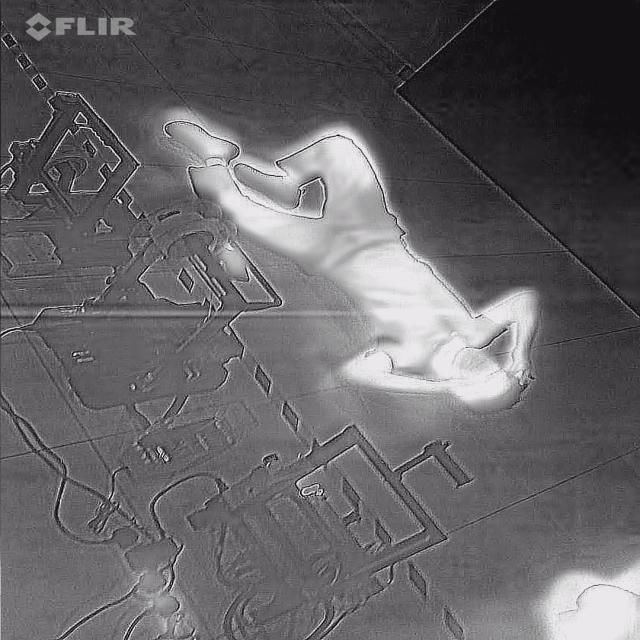Victim: (154, 104, 545, 413)
